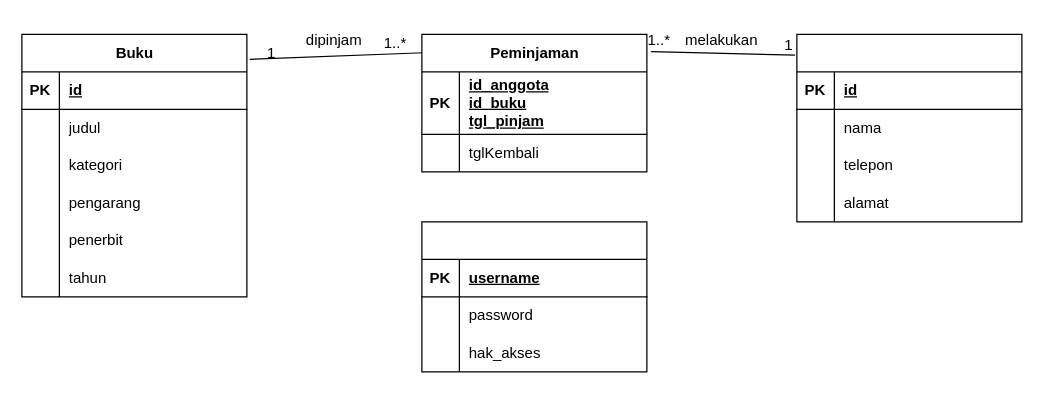
Some shapes in this 1044 by 394 pixel diagram are drawn without their labels. The box of each missing label's shape, as (x1, y1, x2, y2) in pixels:
Anggota: (796, 33, 1022, 222)
Petugas: (421, 221, 647, 372)
